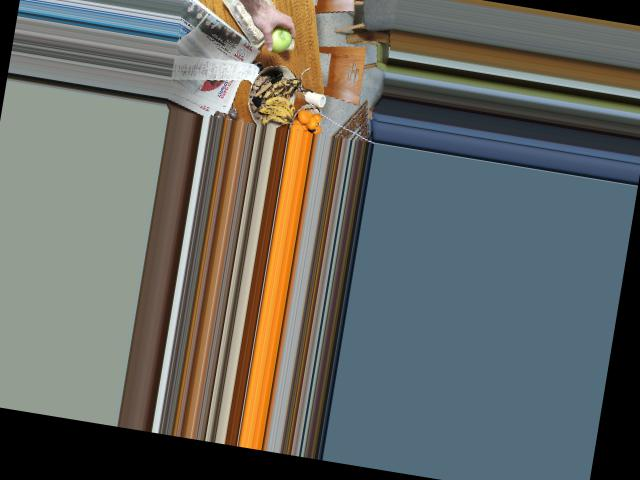apple: (260, 17, 294, 55)
